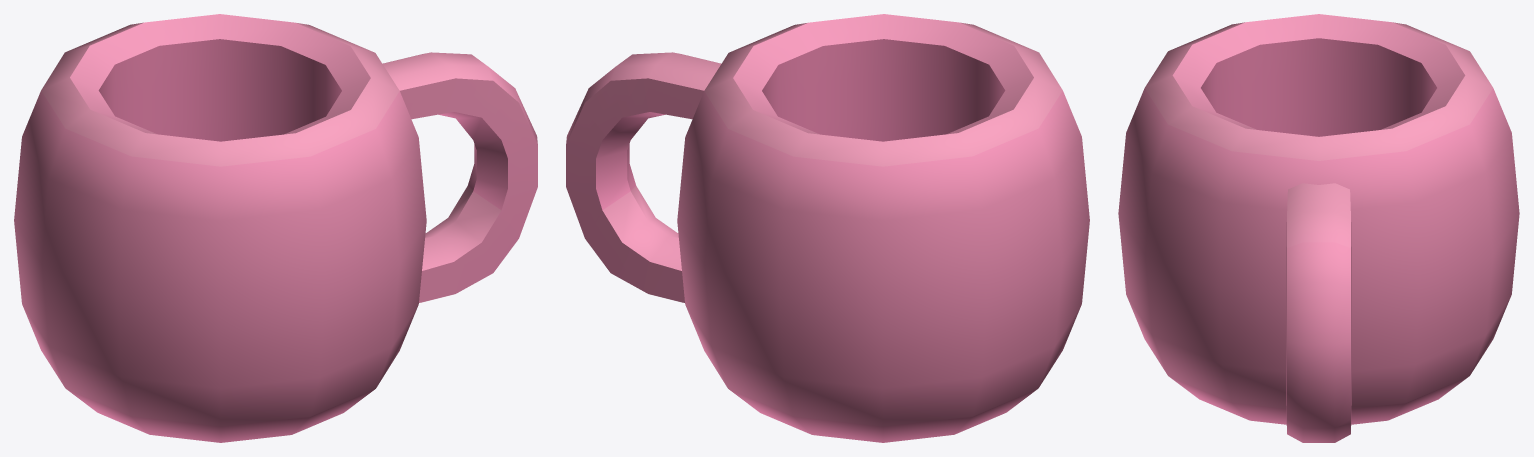
The model's file is mug-a-pink.glb.
3 views of the same model, side by side, from view 1: azimuth 30°, elevation 25°; view 2: azimuth 150°, elevation 25°; view 3: azimuth 270°, elevation 25° (orthographic). The views are drawn at different scales.
Parts seen in each view (by area): view 1: mug_A_pink; view 2: mug_A_pink; view 3: mug_A_pink.
Part boxes in pixels (x1,y1,x2,y2): mug_A_pink: [14, 14, 537, 442]; mug_A_pink: [566, 14, 1089, 442]; mug_A_pink: [1118, 14, 1519, 442].
Bounding box in the file's own units: 0.5851 × 0.35 × 0.4315.
Materials: 1 (1 with a texture image).
